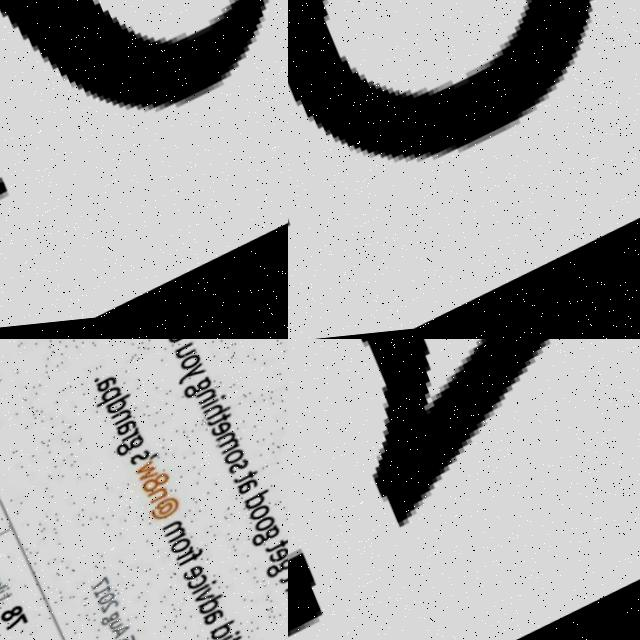0: (95, 598, 115, 615)
1: (92, 592, 111, 606)
2: (98, 606, 118, 622)
5: (288, 339, 640, 640)
7: (2, 618, 27, 638), (88, 584, 109, 600)
8: (140, 479, 170, 502), (0, 608, 22, 629)
9: (288, 0, 640, 312)
S: (0, 0, 288, 308)
